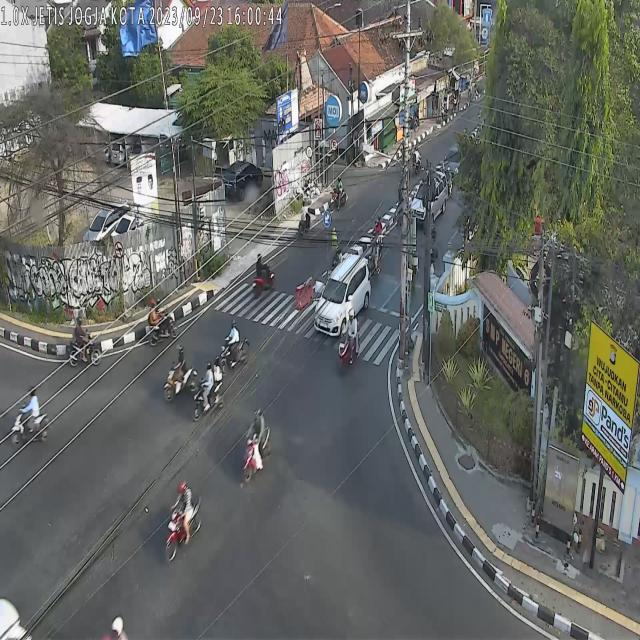car: (314, 253, 372, 337), (412, 168, 448, 224)
motorcycle: (164, 478, 203, 567), (11, 384, 50, 448), (242, 406, 272, 485), (193, 358, 225, 422), (163, 348, 197, 402), (68, 315, 102, 367), (220, 318, 249, 374), (148, 295, 178, 345), (338, 308, 360, 374), (252, 252, 275, 298), (330, 176, 347, 210), (298, 200, 311, 241), (367, 240, 381, 278), (372, 216, 384, 250)
